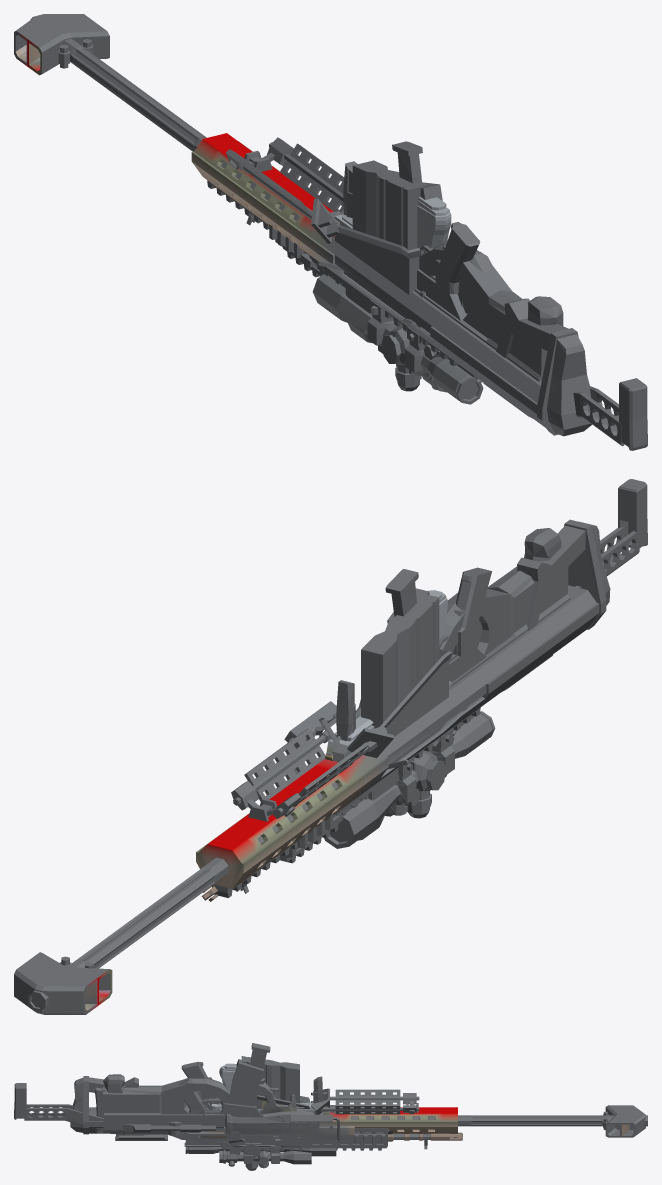
File: weapons.glb
3 views of the same model, one above another, from view 1: azimuth 30°, elevation 25°; view 2: azimuth 150°, elevation 25°; view 3: azimuth 270°, elevation 25° (orthographic). The views are drawn at different scales.
Visible parts, largest first — view 1: launcher, petal, sniper, ak47, pistol, smg, sunbeam; view 2: launcher, petal, sniper, ak47, smg, pistol; view 3: launcher, petal, ak47, sniper, sunbeam, smg, pistol.
Boxes of the visible parts, left/top/right/bottom form: launcher: left=14, top=14, right=591, bottom=436; petal: left=394, top=241, right=547, bottom=381; sniper: left=419, top=290, right=647, bottom=450; ak47: left=246, top=215, right=532, bottom=418; pistol: left=334, top=197, right=451, bottom=253; smg: left=336, top=141, right=462, bottom=355; sunbeam: left=401, top=182, right=492, bottom=383; launcher: left=14, top=519, right=610, bottom=1014; petal: left=358, top=566, right=570, bottom=780; sniper: left=449, top=479, right=647, bottom=688; ak47: left=201, top=620, right=552, bottom=901; smg: left=325, top=569, right=456, bottom=760; pistol: left=326, top=590, right=447, bottom=752; launcher: left=70, top=1056, right=647, bottom=1170; petal: left=103, top=1078, right=296, bottom=1146; ak47: left=115, top=1088, right=462, bottom=1168; sniper: left=14, top=1074, right=392, bottom=1138; sunbeam: left=94, top=1059, right=335, bottom=1146; smg: left=197, top=1043, right=335, bottom=1129; pistol: left=208, top=1063, right=329, bottom=1114.
Bounding box in the file's own units: 0.1849 × 0.4424 × 2.02.
